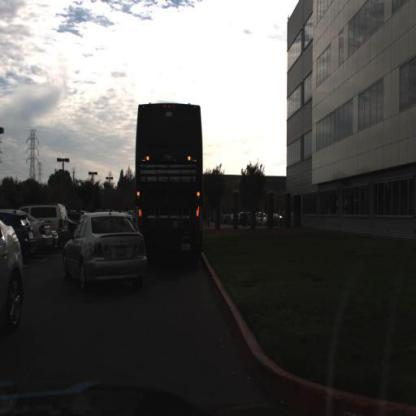car: (60, 208, 149, 291), (1, 206, 37, 265), (29, 199, 73, 235), (255, 210, 270, 228)
truck: (135, 98, 208, 242)
